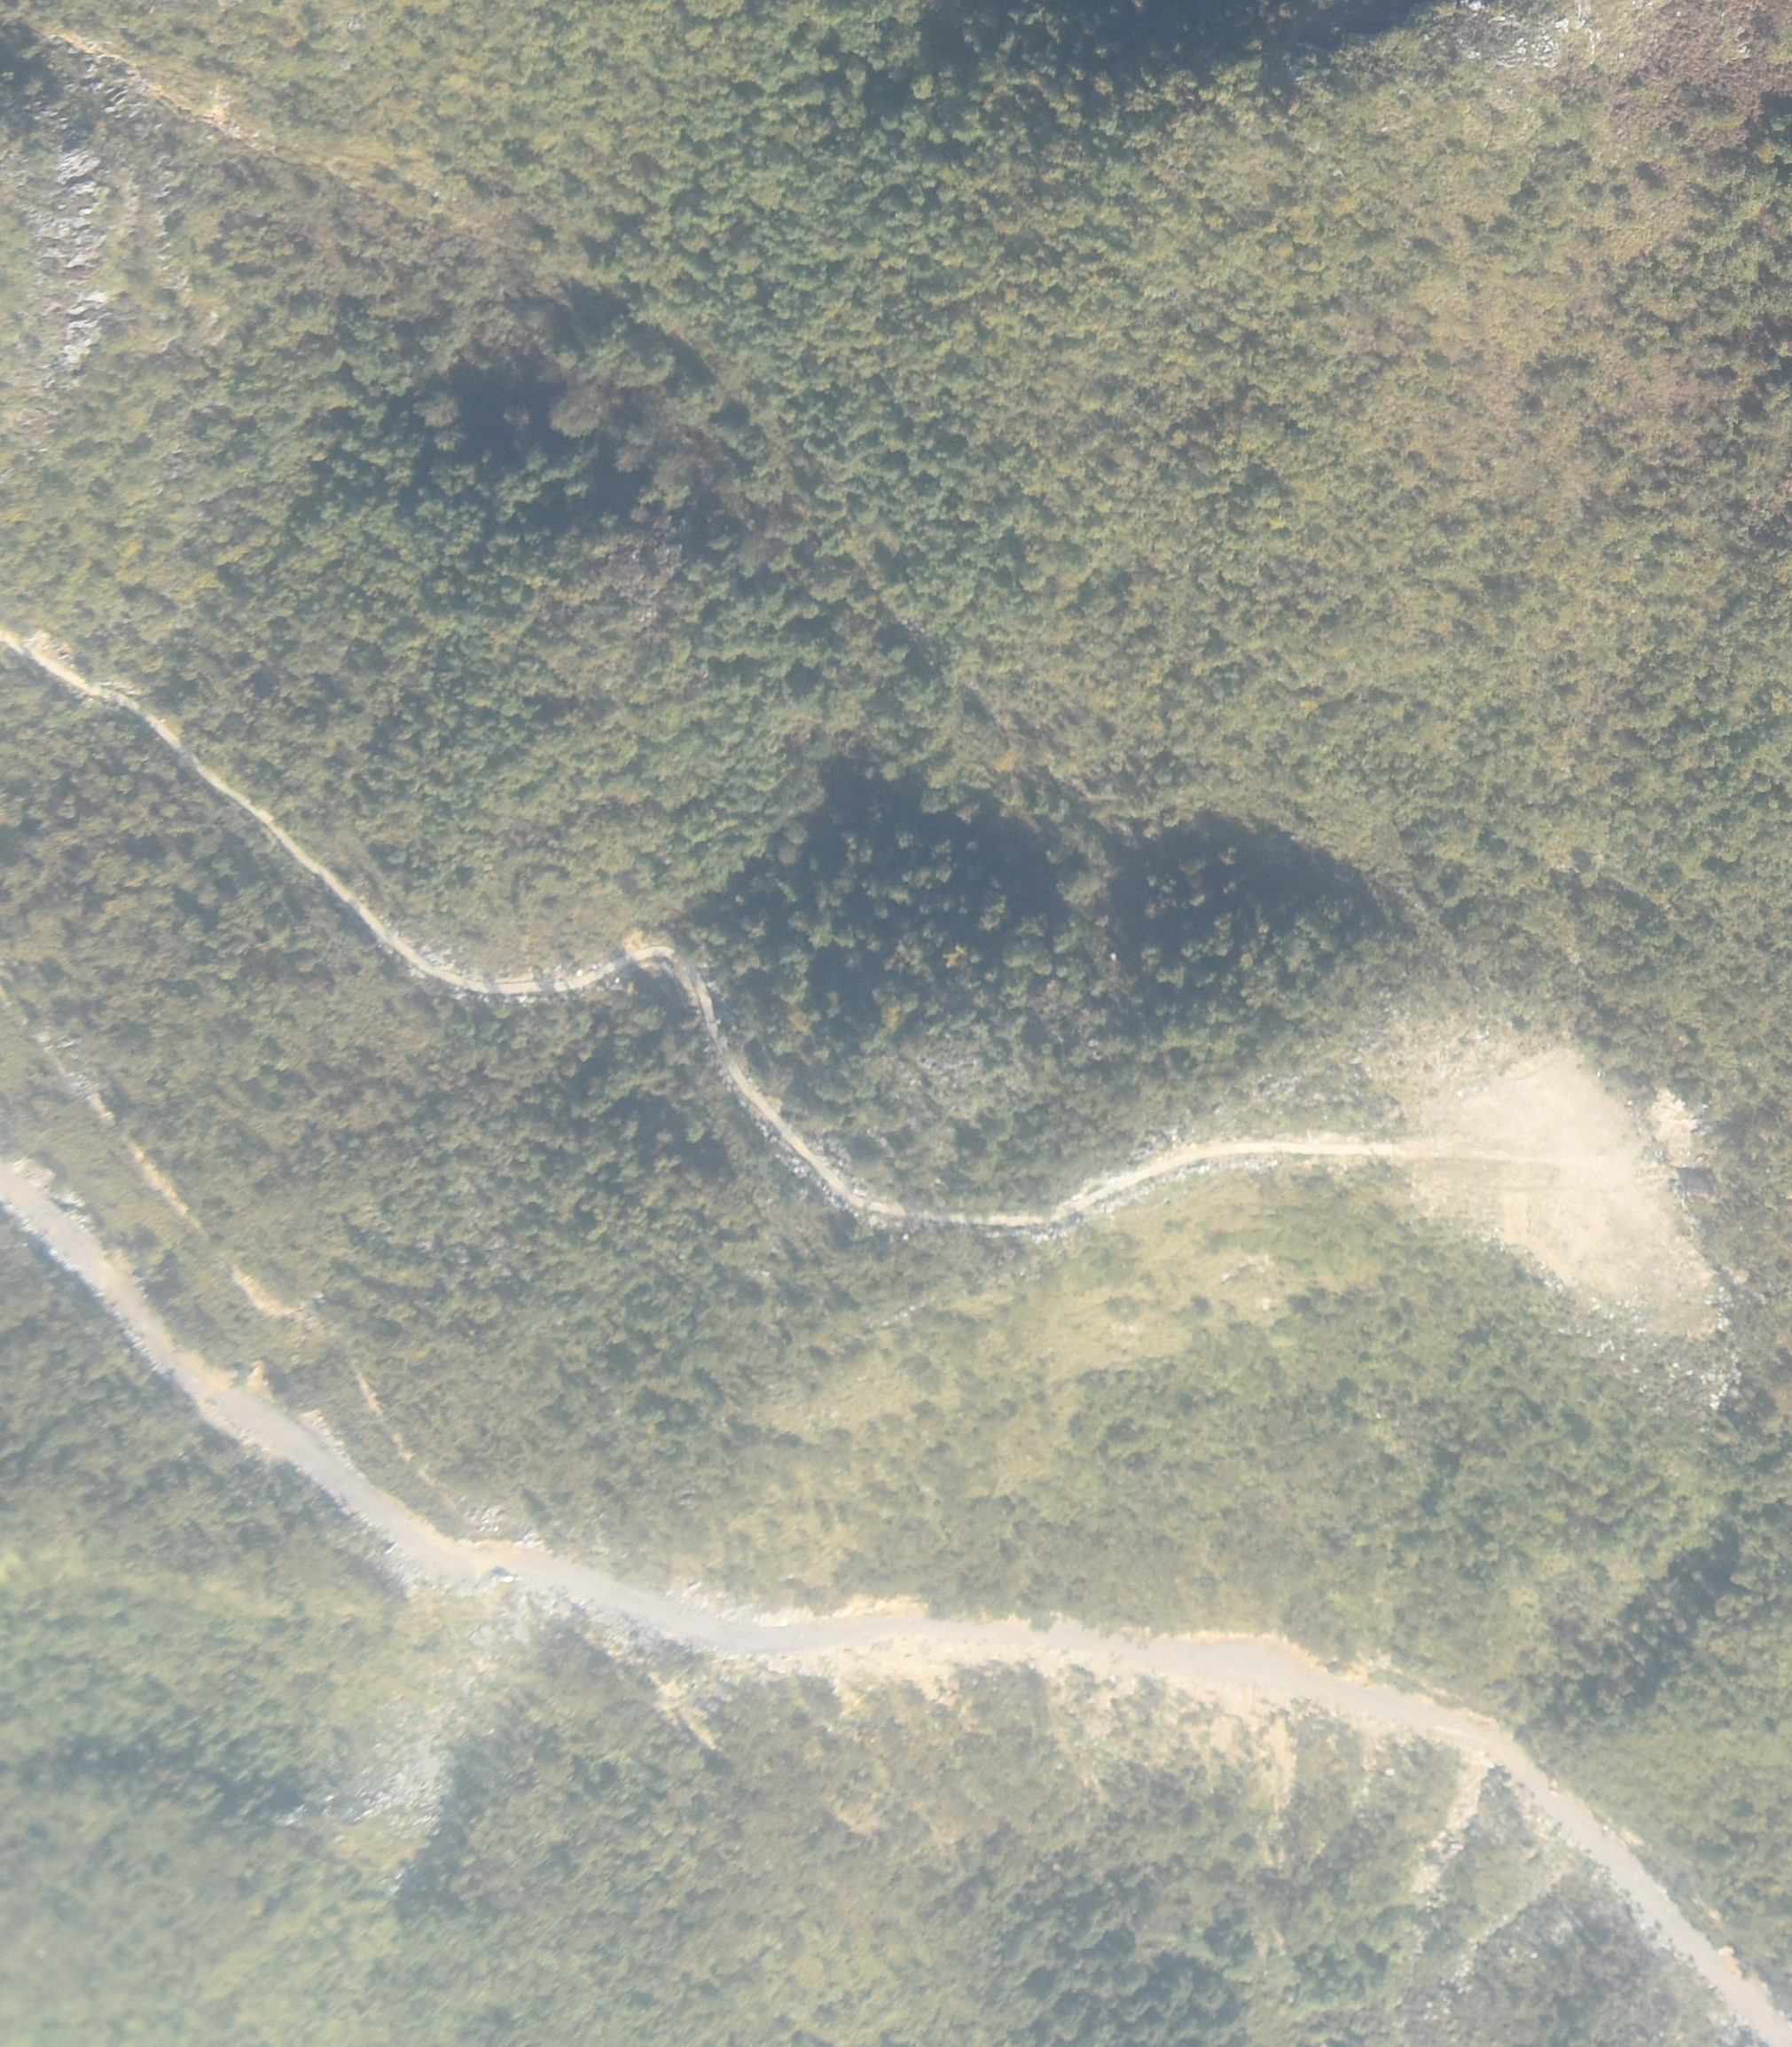quarry: (1373, 1039, 1736, 1358)
